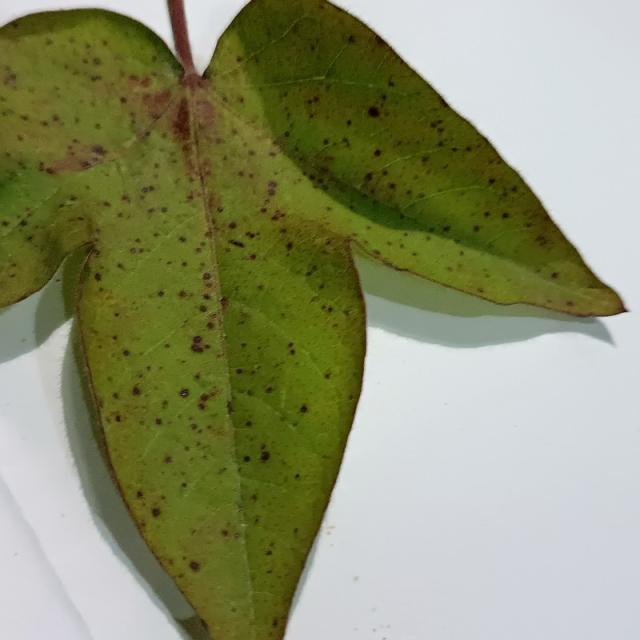Bacterial_Blight: (166, 84, 215, 151), (138, 85, 188, 137), (181, 330, 217, 356), (127, 73, 153, 89), (198, 388, 218, 407), (367, 106, 381, 118), (266, 182, 277, 197), (91, 144, 106, 155), (271, 210, 285, 221), (229, 239, 245, 248), (188, 560, 200, 571), (5, 72, 16, 84), (141, 185, 155, 194), (179, 387, 190, 398), (226, 401, 234, 415), (260, 450, 270, 461), (43, 166, 55, 175), (151, 507, 161, 517), (585, 283, 598, 290), (132, 386, 141, 396), (80, 160, 90, 169), (202, 272, 212, 281), (18, 218, 28, 227), (206, 320, 215, 329), (92, 57, 101, 66), (227, 221, 237, 229), (202, 292, 211, 300), (299, 405, 308, 413), (94, 272, 102, 281), (164, 455, 172, 464), (121, 194, 130, 202), (198, 304, 207, 312), (373, 149, 382, 157), (178, 290, 187, 298), (285, 242, 293, 251), (550, 271, 559, 279), (347, 34, 355, 43), (220, 297, 228, 305), (155, 417, 163, 425), (197, 402, 205, 410), (483, 210, 491, 218), (122, 349, 130, 357), (243, 455, 251, 463), (52, 114, 60, 122), (120, 96, 128, 104), (204, 230, 212, 238), (94, 122, 102, 130), (442, 225, 451, 232), (136, 490, 143, 499), (501, 212, 510, 219), (565, 300, 574, 307), (289, 347, 296, 355), (287, 341, 294, 349), (235, 368, 243, 375), (157, 290, 165, 297), (472, 225, 480, 232), (265, 386, 273, 393), (114, 414, 121, 422), (234, 531, 241, 539), (221, 529, 228, 537), (488, 178, 496, 185), (322, 138, 329, 146), (179, 236, 186, 243), (324, 372, 331, 379), (326, 306, 333, 313), (194, 373, 201, 380), (161, 206, 168, 213), (245, 420, 252, 427), (265, 549, 272, 556), (388, 80, 395, 87), (446, 266, 454, 272), (1, 221, 9, 227), (272, 617, 278, 625), (113, 311, 120, 317), (346, 119, 352, 126), (451, 146, 458, 152), (293, 527, 299, 534), (181, 482, 187, 488), (294, 473, 300, 479)
Cotton: (0, 0, 623, 639)
